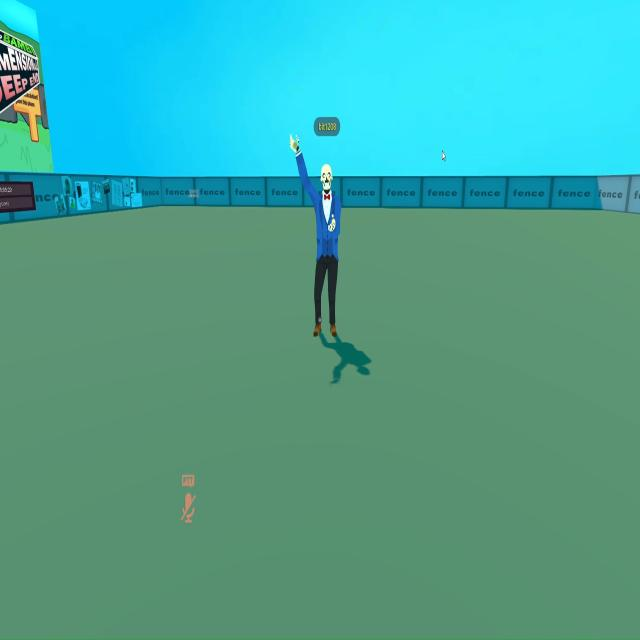human: (288, 132, 352, 358)
